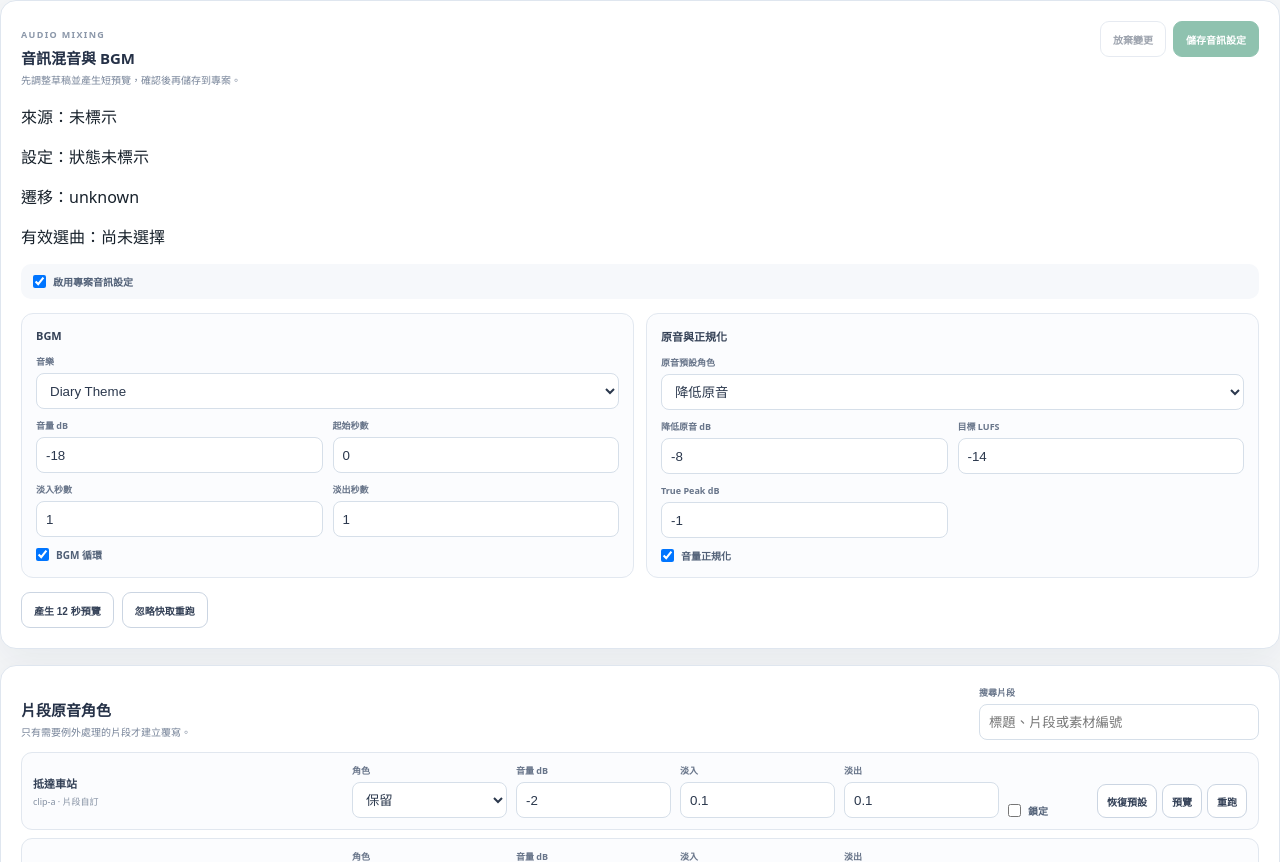
Scenario: AudioMixingWorkspace › filters segments and restores a segment override to the project default
Expected: the text "clip-a · 片段自訂" is shown, [33,794,99,808]
Click the button "恢復預設" in the row of "片段自訂".
click(1127, 801)  # box [1097,784,1157,818]
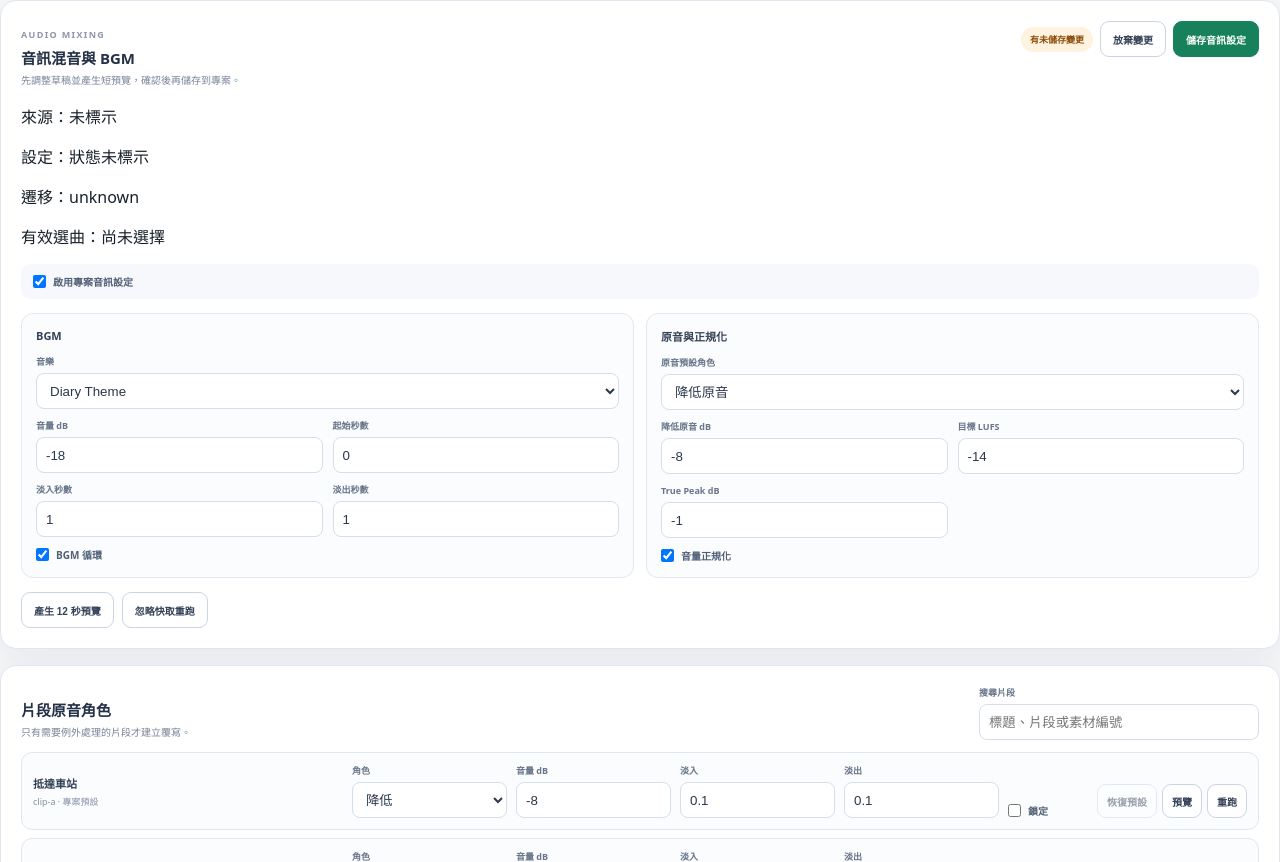
Expected: the text "有未儲存變更" is shown, [1021,26,1093,52]
Type "巷弄" into the search field named "搜尋音訊片段".
click(1119, 722); type("巷弄")  # box [979,704,1259,740]
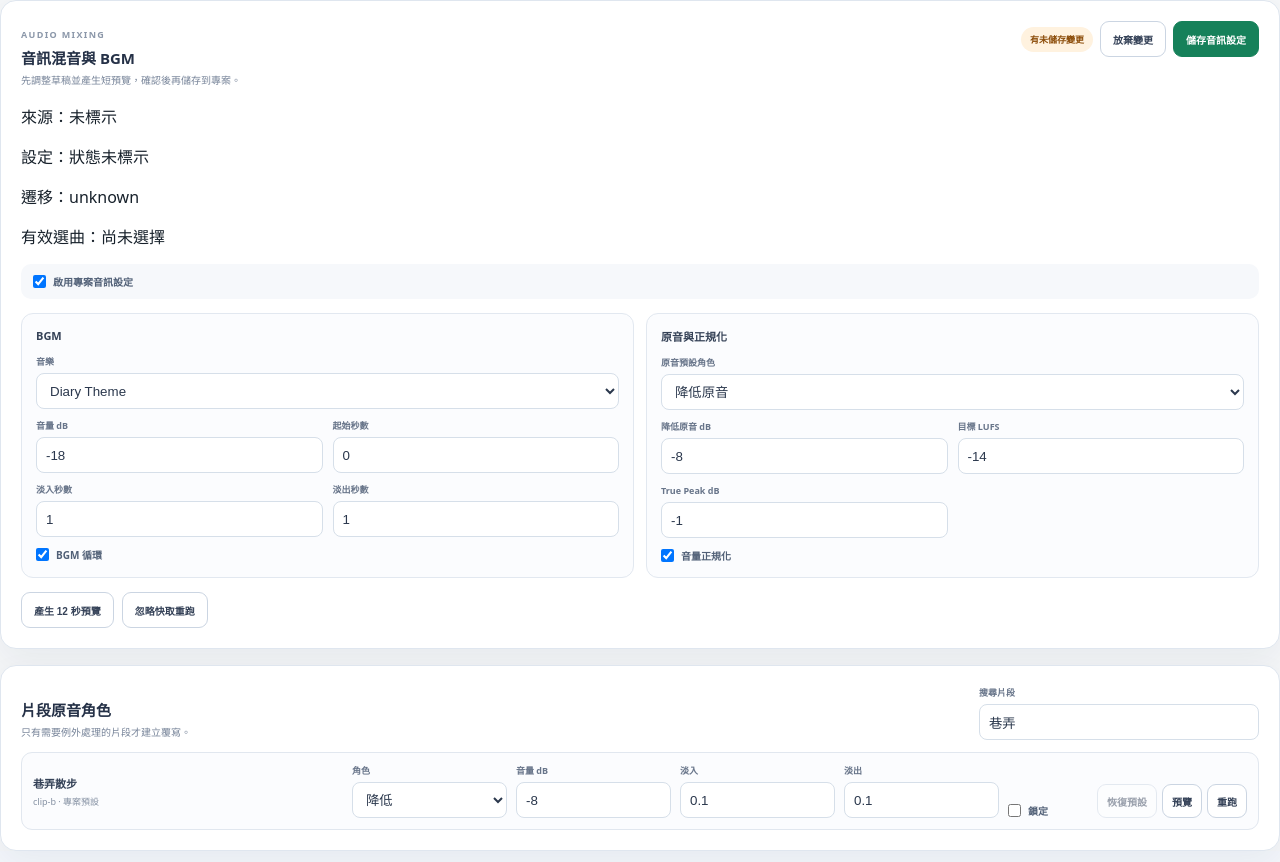
Expected: the text "巷弄散步" is shown, [33,776,77,790]
Expected: the text "抵達車站" is gone
